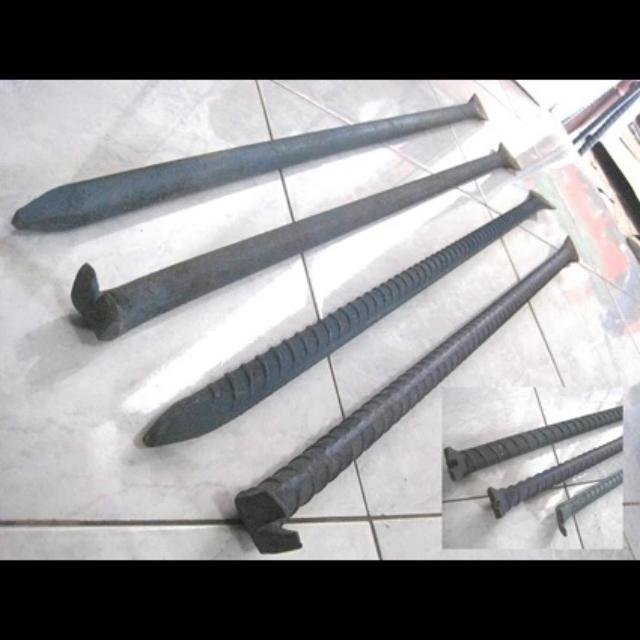crow bar: (205, 233, 592, 571), (59, 136, 530, 345)
